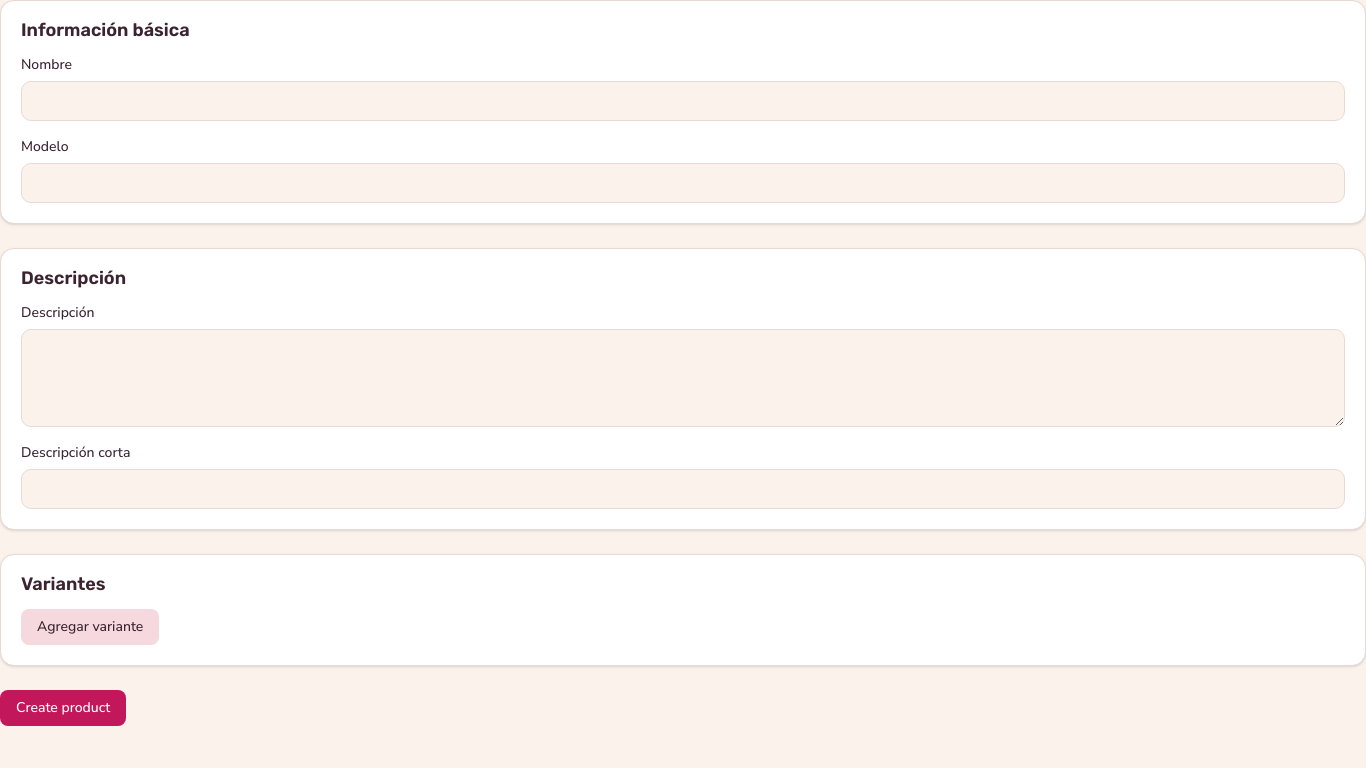
Test: ProductForm › removes an UNSAVED row client-only, with no retire request
Click the button "Agregar variante": (90, 627) [21,609,159,645]
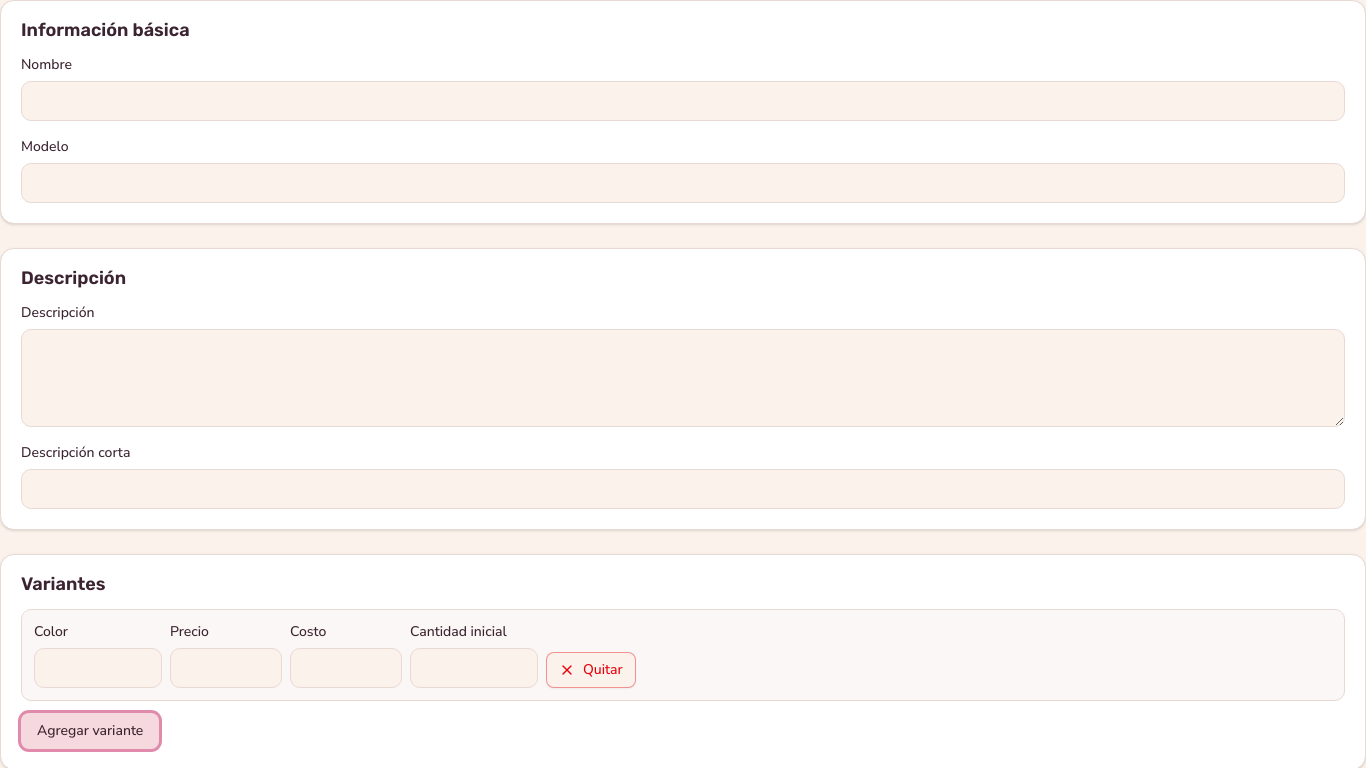
Check: the number of fields labelled "Color" is 1, box [34,648,162,688]
Click the button "Quitar": (591, 670) [546,652,636,688]
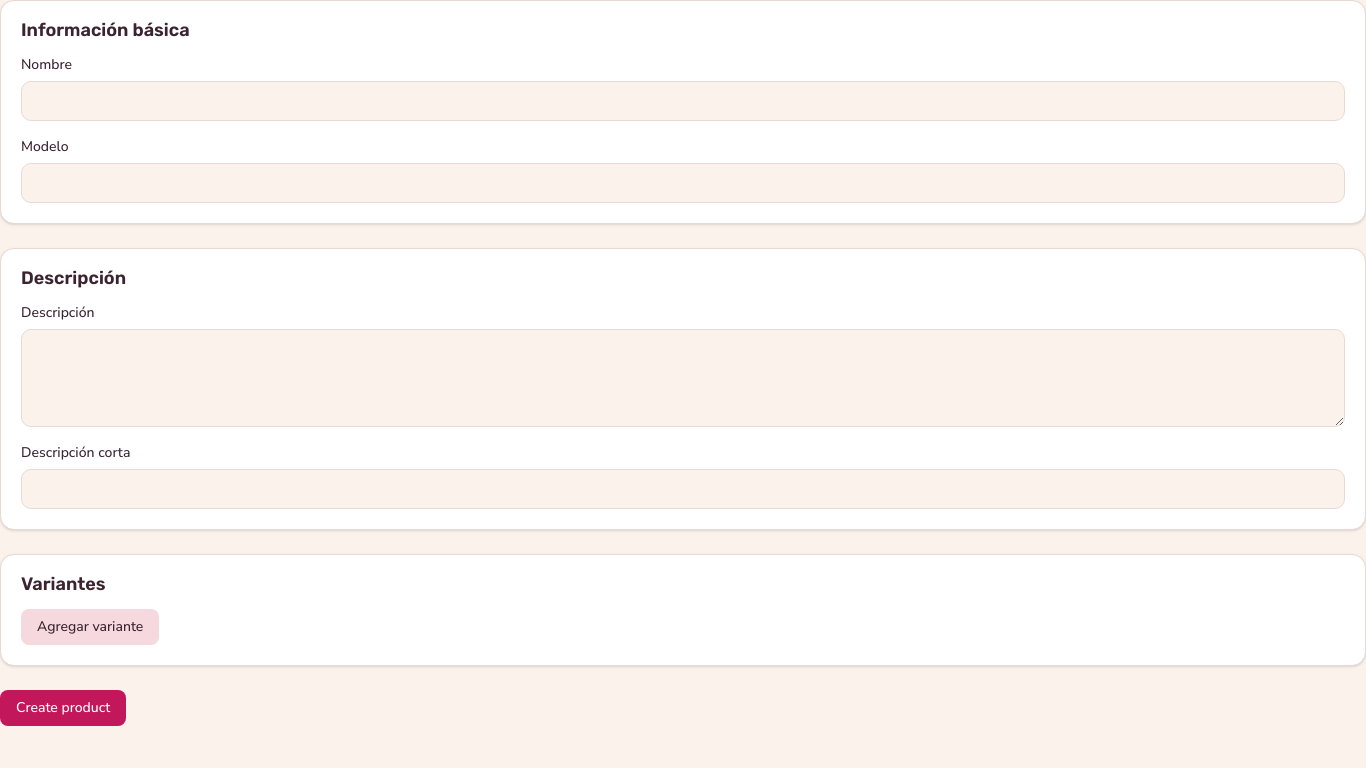
Check: no labels labelled "Color" are shown
